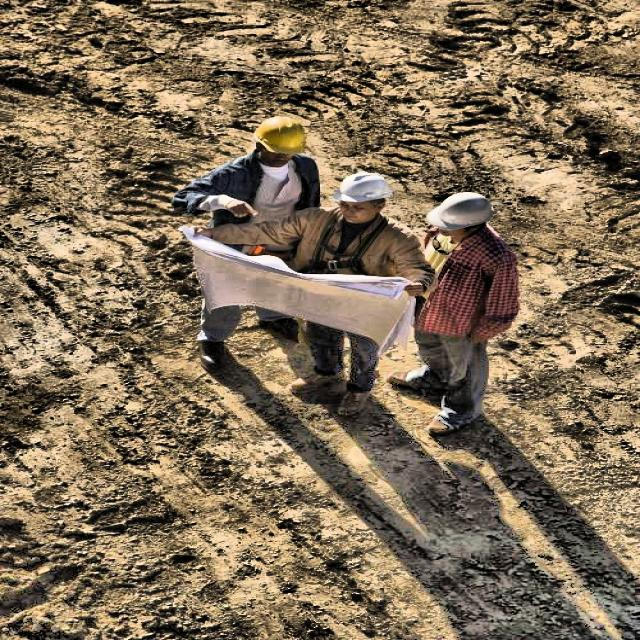helmet: (426, 187, 499, 245), (246, 115, 307, 164), (337, 171, 394, 219)
